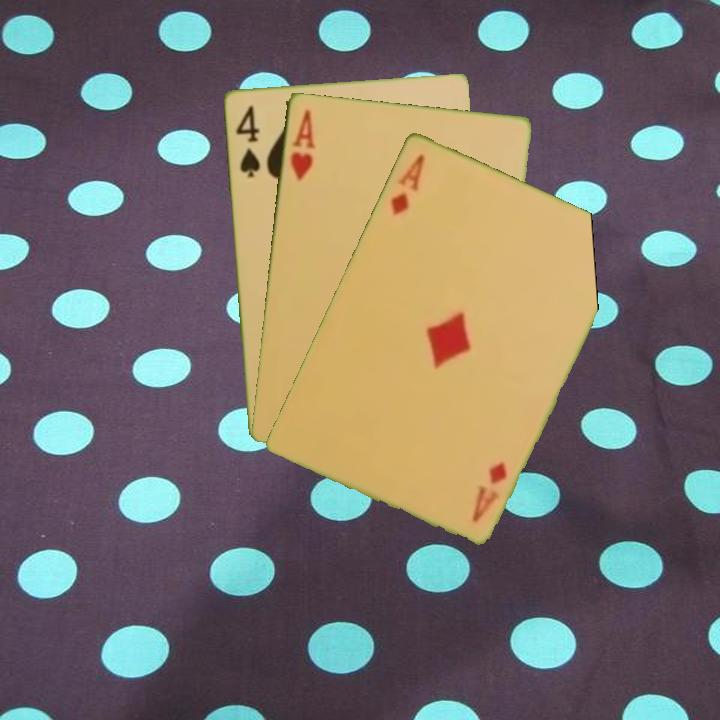4s: (232, 101, 262, 180)
Ad: (386, 149, 427, 219), (468, 458, 510, 525)
Ah: (286, 105, 318, 183)
